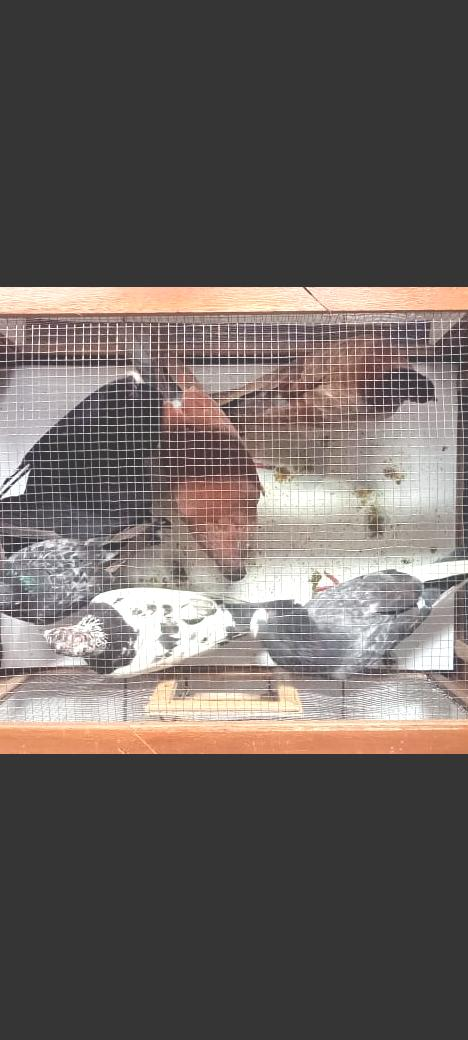Merpati: (126, 327, 263, 583), (0, 374, 161, 558), (252, 543, 468, 679), (38, 586, 302, 679), (208, 331, 440, 427), (0, 512, 171, 624)
